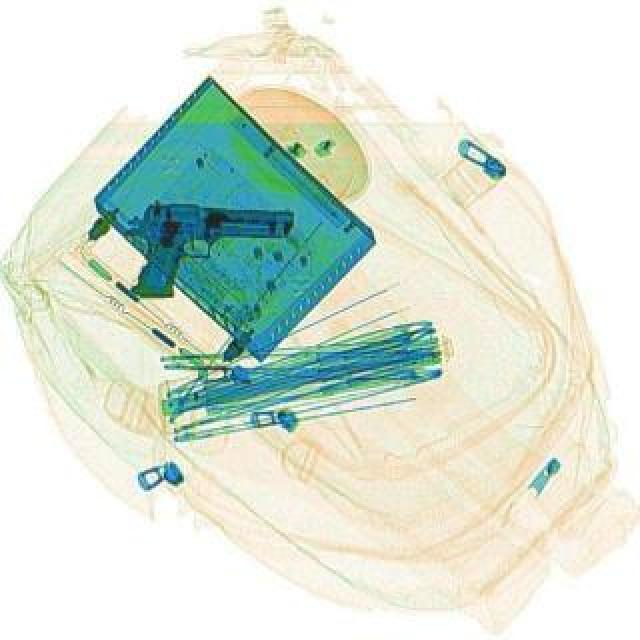gun: (116, 202, 296, 312)
